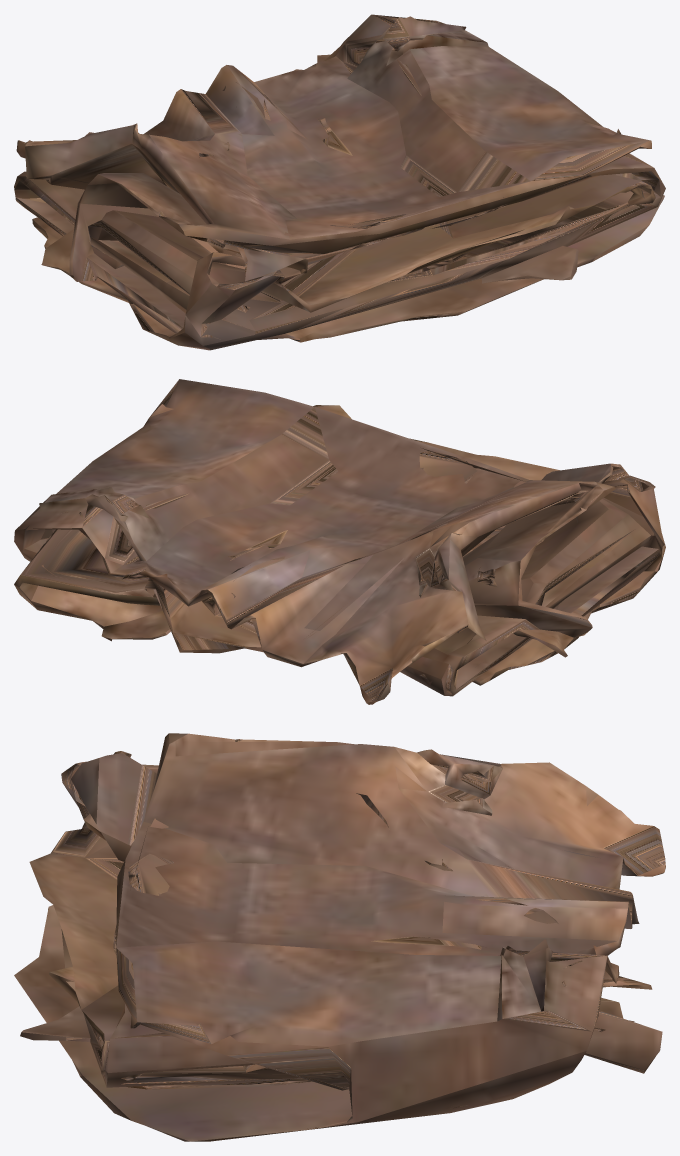
3 renders of one model, top to bottom at view 1: azimuth 30°, elevation 25°; view 2: azimuth 150°, elevation 25°; view 3: azimuth 270°, elevation 25°, orthographic. The views are drawn at different scales.
Parts seen in each view (by area): view 1: geometry_0; view 2: geometry_0; view 3: geometry_0.
Boxes of the visible parts, x1=… form: geometry_0: x1=14, y1=14, x2=665, y2=350; geometry_0: x1=14, y1=379, x2=665, y2=704; geometry_0: x1=14, y1=733, x2=665, y2=1141.
Bounding box in the file's own units: 0.4481 × 0.0916 × 0.3798.
Materials: 1 (1 with a texture image).
